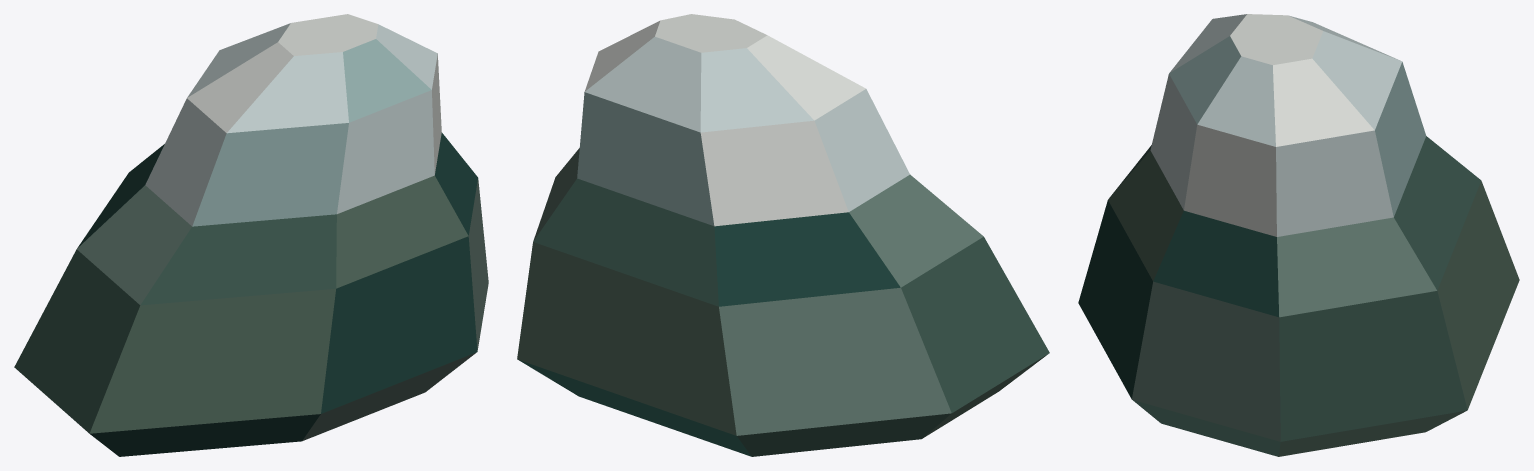
Rendered from boulder.glb.
3 renders of one model, left to right at view 1: azimuth 30°, elevation 25°; view 2: azimuth 150°, elevation 25°; view 3: azimuth 270°, elevation 25°, orthographic. The views are drawn at different scales.
Parts seen in each view (by area): view 1: boulder; view 2: boulder; view 3: boulder.
Part boxes in pixels (x1,y1,x2,y2): boulder: (14,14,488,456); boulder: (517,14,1049,456); boulder: (1078,14,1519,456).
Bounding box in the file's own units: 2.81 × 1.95 × 2.16.
